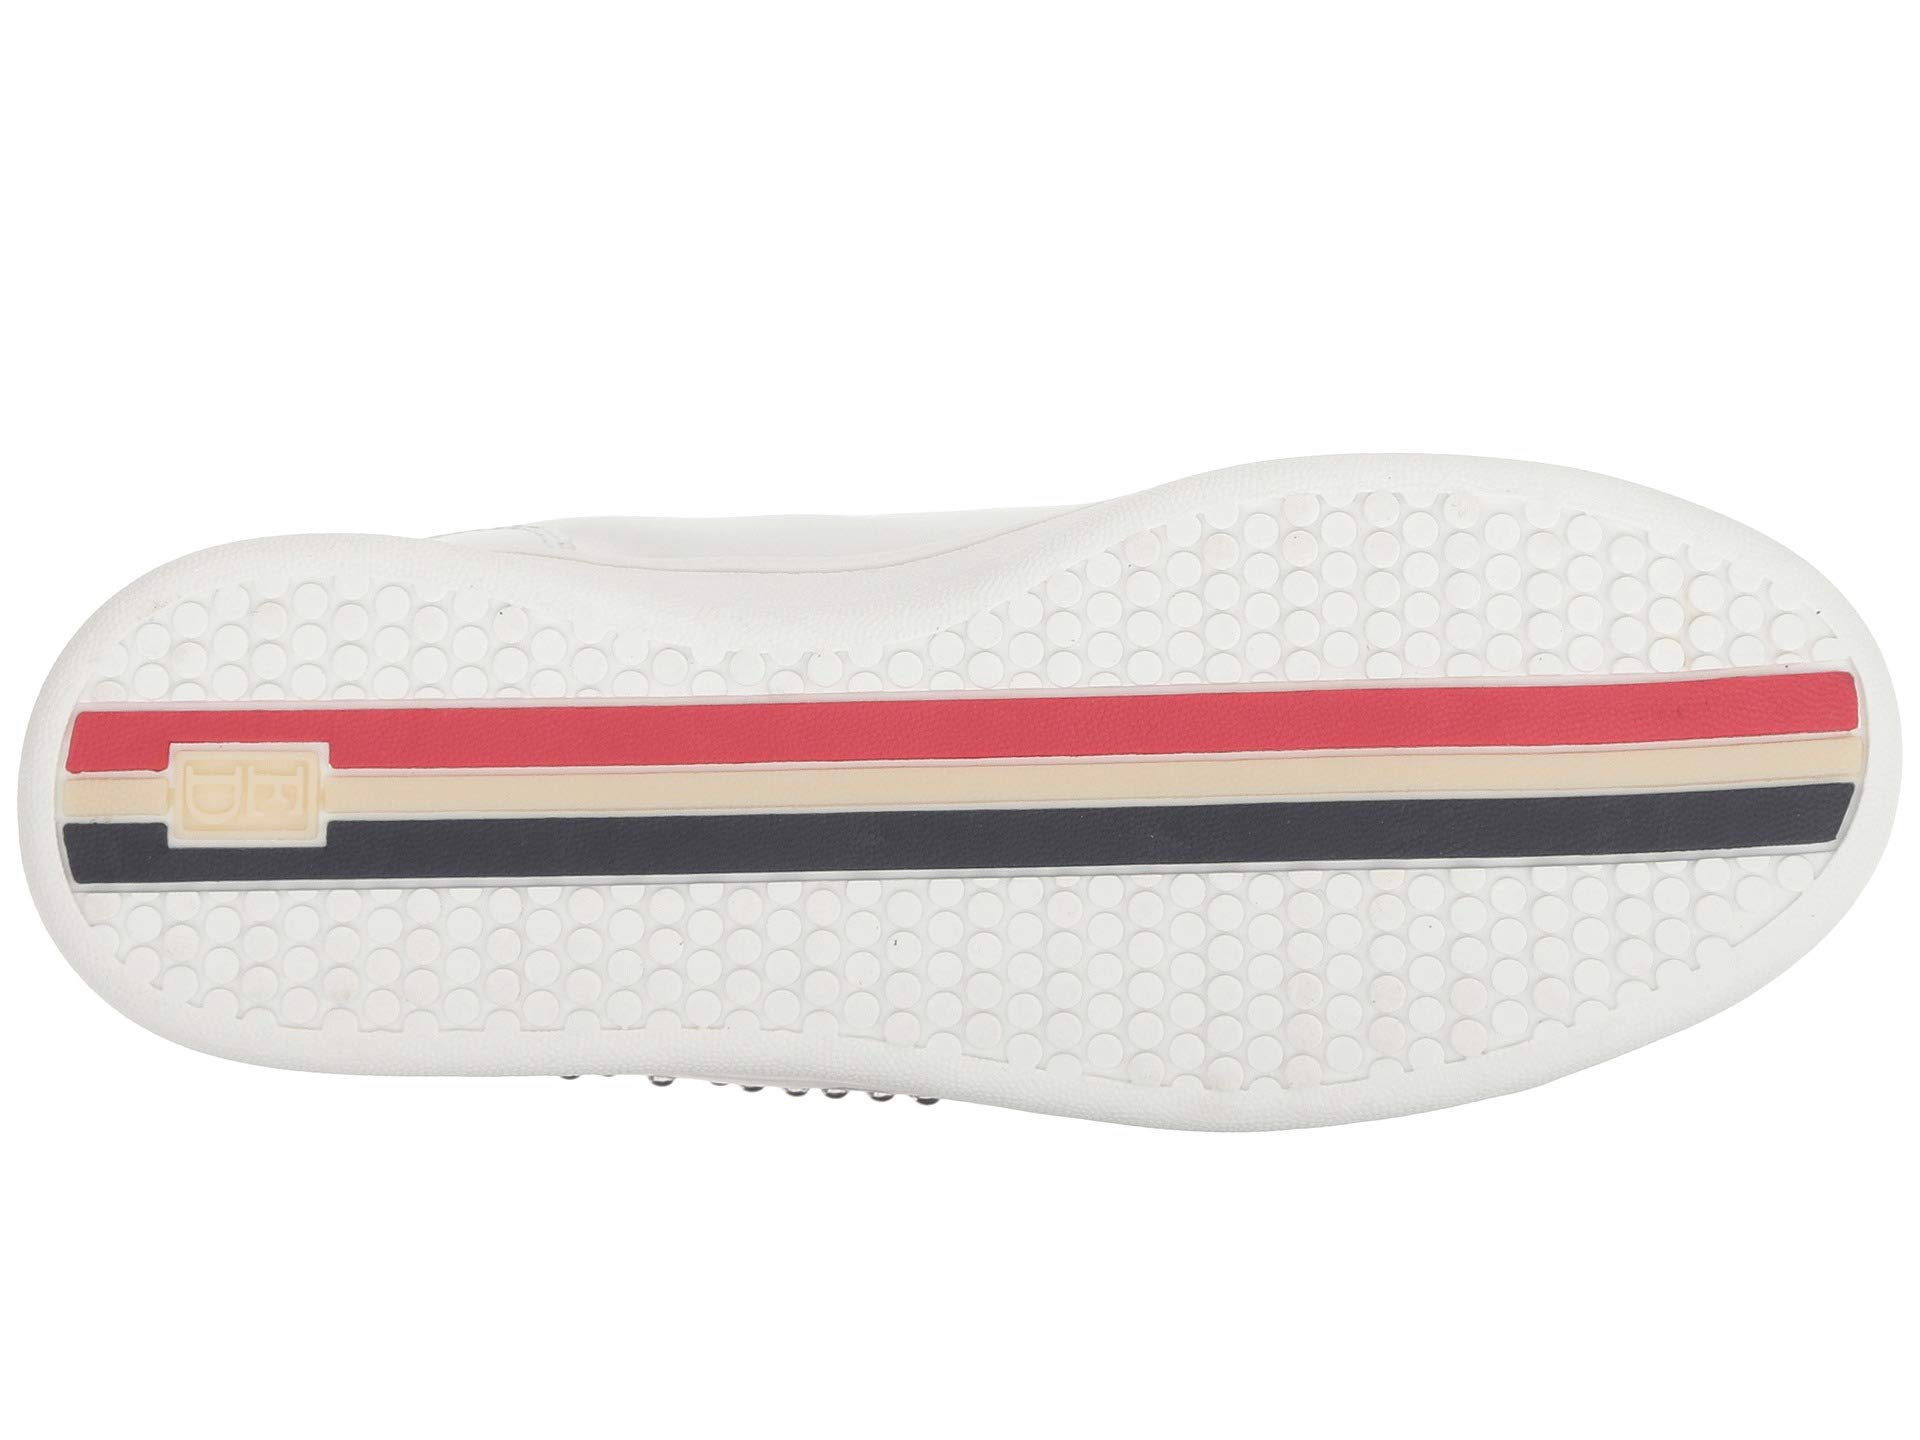circle: (652, 883, 1633, 1007), (1185, 501, 1631, 658)
line: (509, 700, 1844, 844)
quad: (509, 700, 1844, 844), (151, 729, 337, 861)
text: (151, 729, 337, 861)
